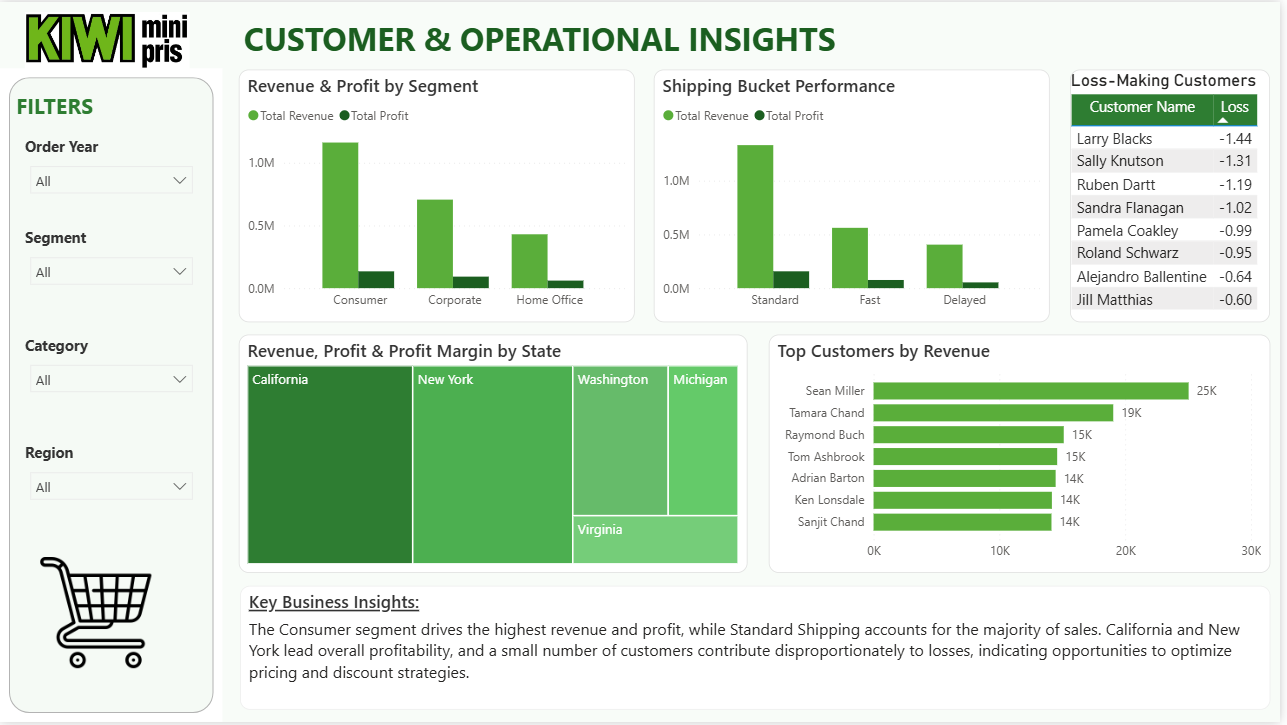

Layout of this report page (visuals, bound fields, positions):
{"tool":"powerbi","page":{"name":"Customer-Operational Insights","canvas":[1280,720],"ordinal":1},"visuals":[{"type":"shape","box":[0,66.2,222.5,653.8],"z":0},{"type":"slicer","title":"Order Year","fields":{"Values":["superstore_db superstore_sales.order_year"]},"box":[20,133.8,182.5,81.2],"z":10000},{"type":"slicer","title":"Segment","fields":{"Values":["superstore_db superstore_sales.segment"]},"box":[20,225,182.5,81],"z":11000},{"type":"slicer","title":"Category","fields":{"Values":["superstore_db superstore_sales.category"]},"box":[20,332.5,182.5,81.2],"z":12000},{"type":"slicer","title":"Region","fields":{"Values":["superstore_db superstore_sales.region"]},"box":[20,440,182.5,81.2],"z":13000},{"type":"textbox","box":[238.6,10,602.9,55.7],"z":14000},{"type":"textbox","box":[11.2,83.8,175,43.8],"z":15000},{"type":"image","box":[5,555,181.2,111.2],"z":16000},{"type":"clusteredColumnChart","title":"Revenue & Profit by Segment","fields":{"Category":["superstore_db superstore_sales.segment"],"Y":["superstore_db superstore_sales.Total Revenue","superstore_db superstore_sales.Total Profit"]},"box":[238.6,67.1,395.7,252.9],"z":16001},{"type":"clusteredColumnChart","title":"Shipping Bucket Performance","fields":{"Category":["superstore_db superstore_sales.shipping_bucket"],"Y":["superstore_db superstore_sales.Total Revenue","superstore_db superstore_sales.Total Profit"]},"box":[654.3,67.1,395.7,252.9],"z":16002},{"type":"treemap","title":"Revenue, Profit & Profit Margin by State","fields":{"Group":["superstore_db superstore_sales.state"],"Values":["superstore_db superstore_sales.Total Profit"]},"box":[238.6,332.9,508.6,238.6],"z":16003},{"type":"barChart","title":"Top Customers by Revenue","fields":{"Category":["superstore_db superstore_sales.customer_name"],"Y":["superstore_db superstore_sales.Total Revenue"]},"box":[768.6,332.9,501.4,238.6],"z":16004},{"type":"tableEx","title":"Loss-Making Customers","fields":{"Values":["superstore_db superstore_sales.customer_name","superstore_db superstore_sales.profit"]},"box":[1070,67.1,200,252.9],"z":16005},{"type":"image","box":[0,10,214.3,57.1],"z":16006},{"type":"textbox","title":"Key Business Insights:","box":[240,584.3,1030,124.3],"z":16007}]}

Visuals, with their boxes in screenshot pixels (x1, y1, x2, y2), scaled from the page's 1280x720 canvas onto the 1287x725 screenshot:
shape: 0, 67, 224, 724
"Order Year" slicer: 20, 135, 204, 216
"Segment" slicer: 20, 227, 204, 308
"Category" slicer: 20, 335, 204, 417
"Region" slicer: 20, 443, 204, 525
textbox: 240, 10, 846, 66
textbox: 11, 84, 187, 128
image: 5, 559, 187, 671
"Revenue & Profit by Segment" clusteredColumnChart: 240, 68, 638, 322
"Shipping Bucket Performance" clusteredColumnChart: 658, 68, 1056, 322
"Revenue, Profit & Profit Margin by State" treemap: 240, 335, 751, 575
"Top Customers by Revenue" barChart: 773, 335, 1277, 575
"Loss-Making Customers" tableEx: 1076, 68, 1277, 322
image: 0, 10, 215, 68
"Key Business Insights:" textbox: 241, 588, 1277, 714
